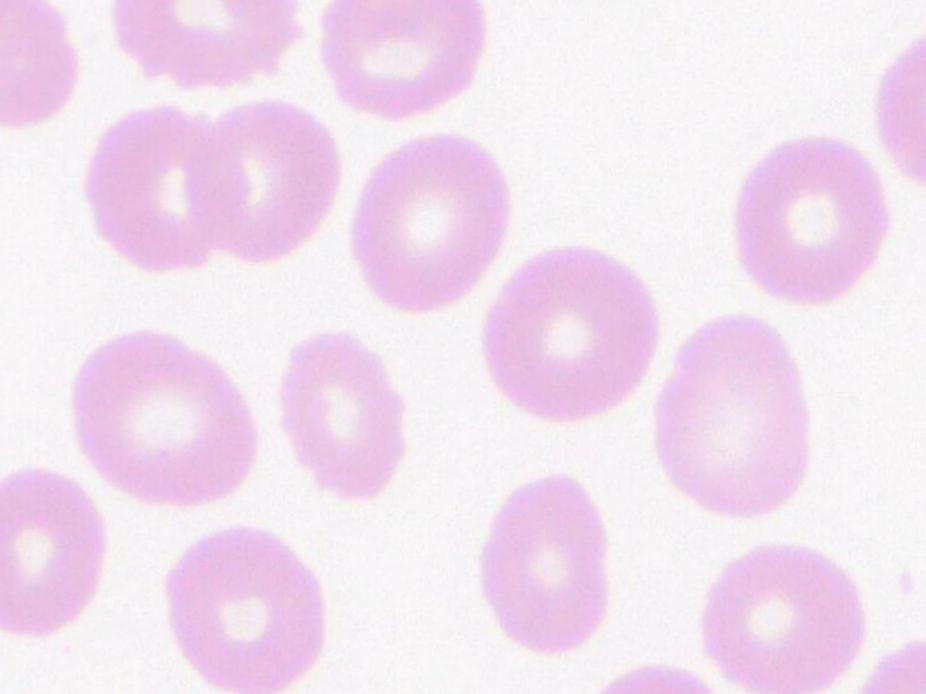Uninfected: (72, 326, 264, 504), (653, 309, 810, 524), (487, 239, 656, 431), (347, 132, 506, 316), (80, 111, 247, 272), (163, 522, 319, 692), (735, 139, 886, 311), (697, 539, 861, 694), (193, 102, 336, 265), (482, 474, 612, 650), (277, 336, 414, 499), (320, 0, 486, 116), (0, 464, 100, 634)
